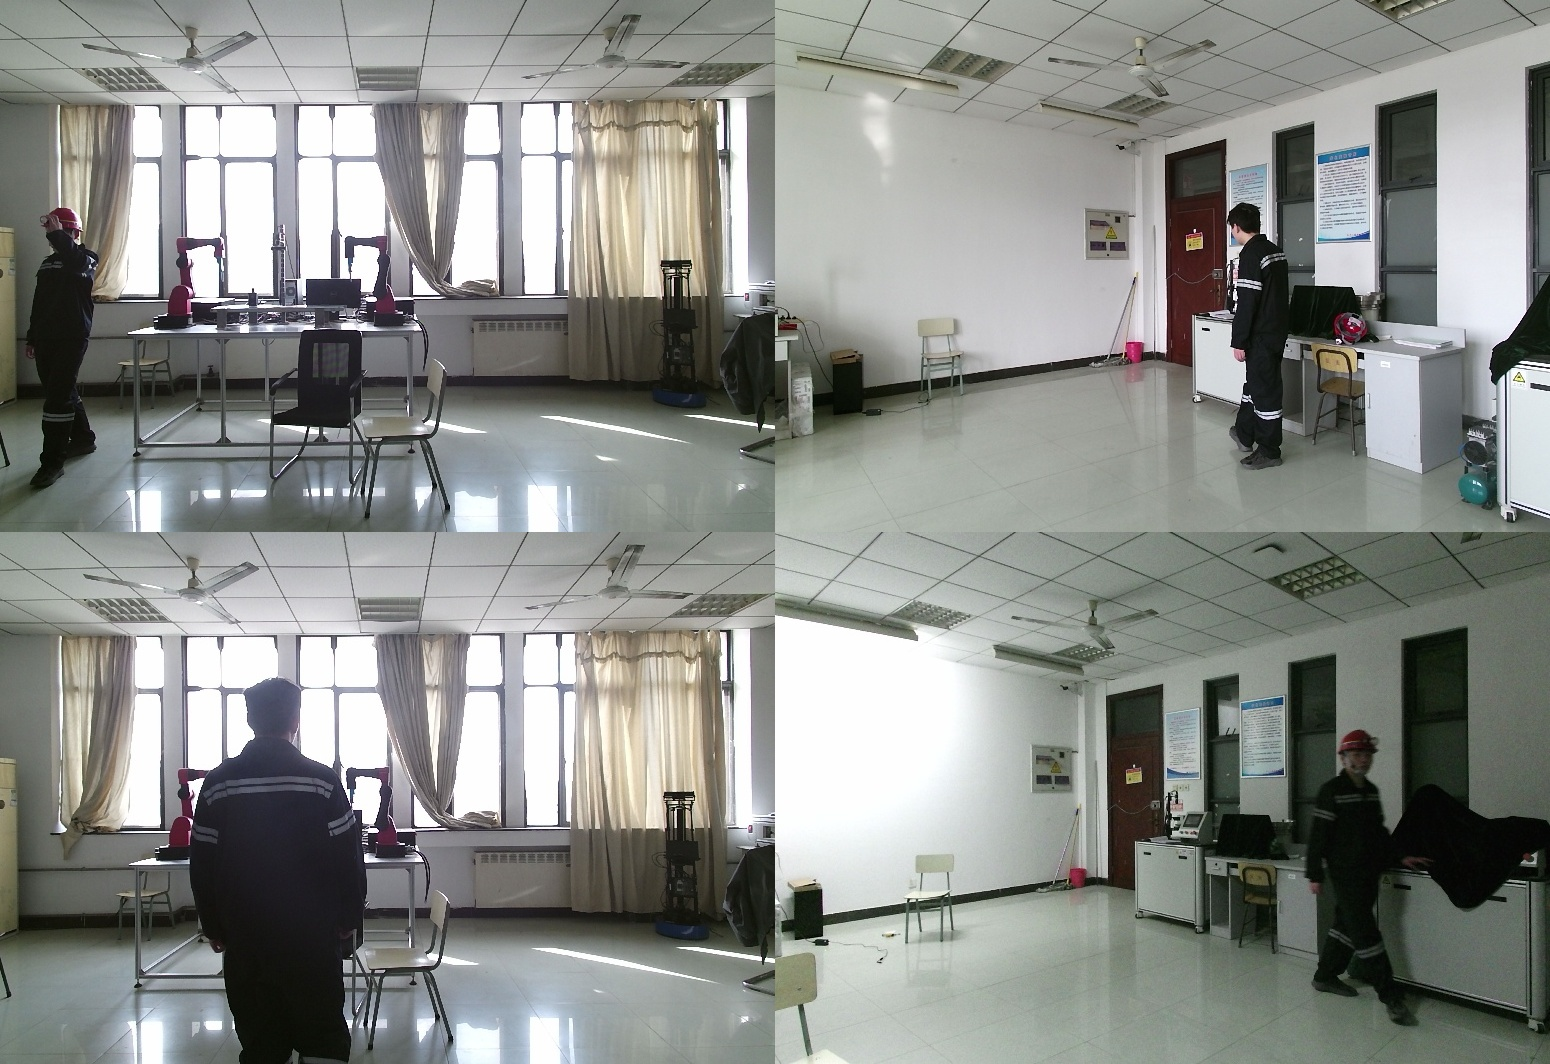person: (192, 679, 370, 1064), (1295, 730, 1427, 1016), (25, 210, 101, 489), (1231, 202, 1308, 470)
